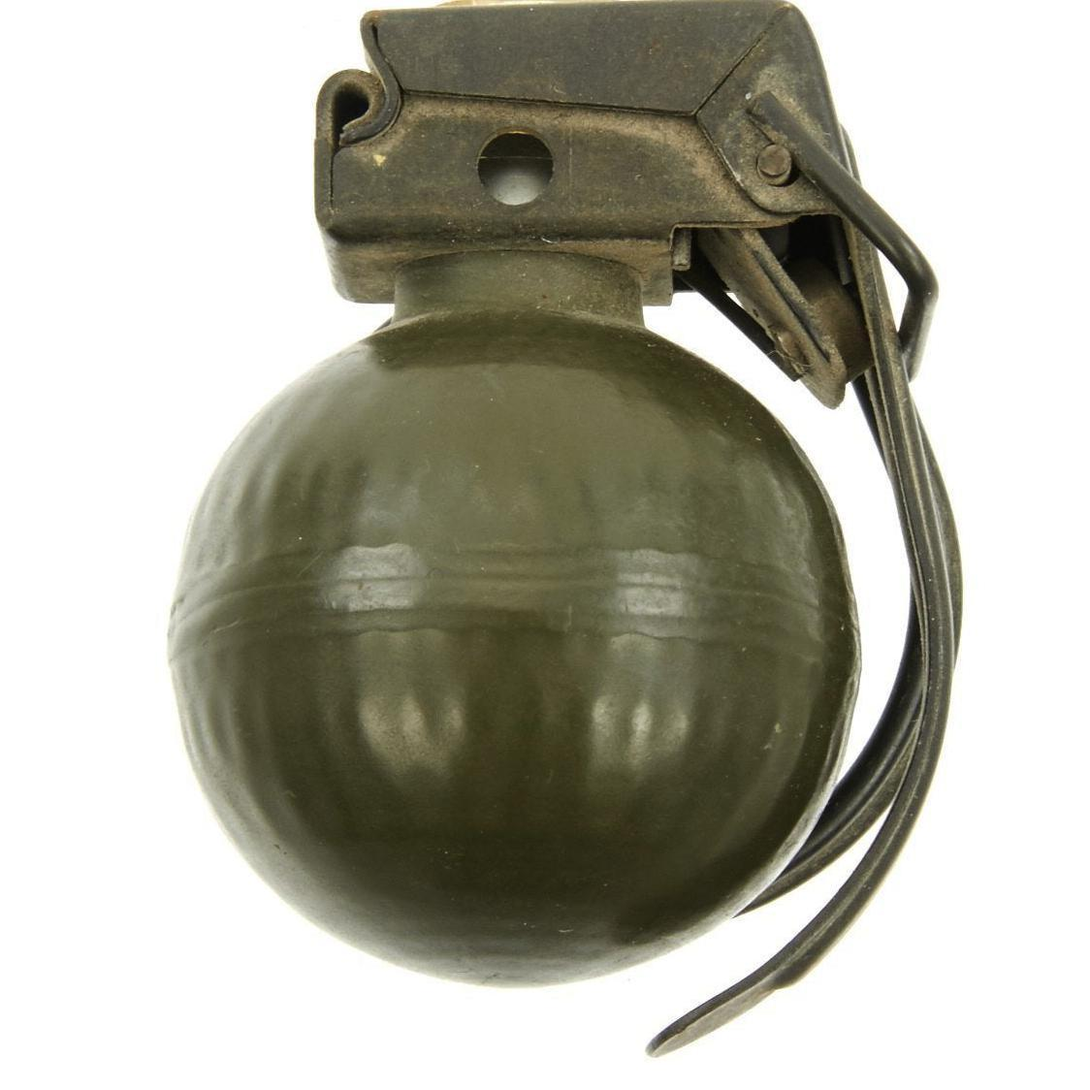Grenade: (165, 0, 965, 1056)
